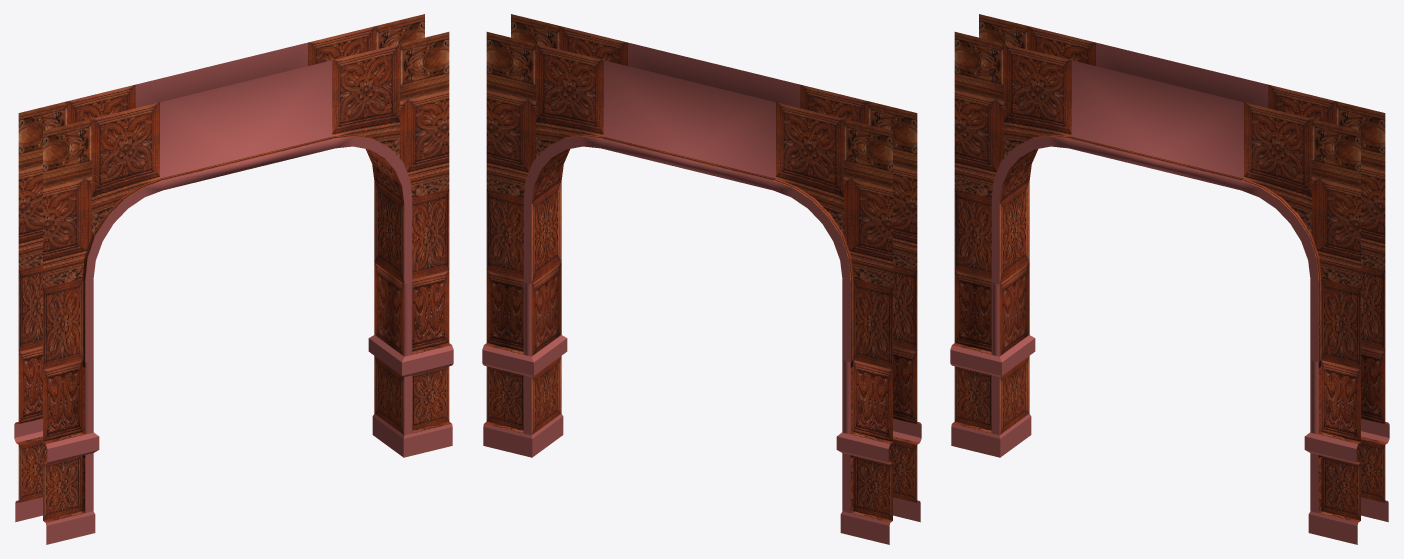
Rendered from RoomSpanner.fbx.
The picture shows the model from 3 angles, left to right: view 1: azimuth 30°, elevation 25°; view 2: azimuth 150°, elevation 25°; view 3: azimuth 330°, elevation 25°; orthographic projection.
Parts seen in each view (by area): view 1: Arch.003; view 2: Arch.003; view 3: Arch.003.
Part boxes in pixels (left/top/right/bottom): Arch.003: left=14, top=14, right=453, bottom=544; Arch.003: left=482, top=14, right=921, bottom=544; Arch.003: left=950, top=14, right=1389, bottom=544.
Bounding box in the file's own units: 559 × 541 × 79.33.
